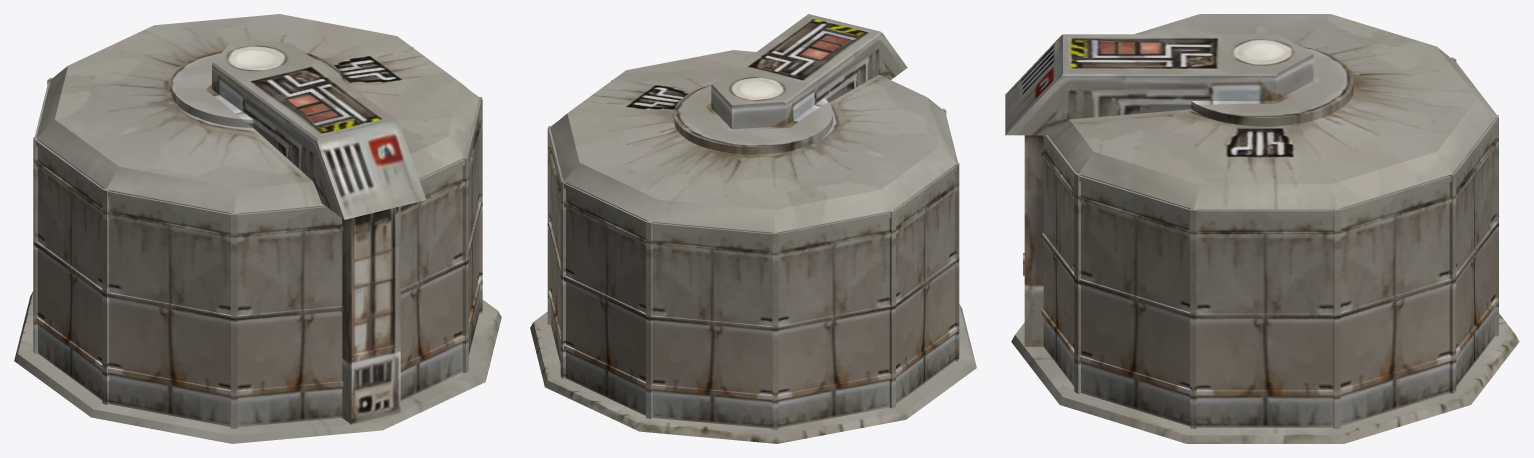
The model's file is liquidstorage_cad.glb.
3 renders of one model, left to right at view 1: azimuth 30°, elevation 25°; view 2: azimuth 150°, elevation 25°; view 3: azimuth 270°, elevation 25°, orthographic. The views are drawn at different scales.
Visible parts, largest first — view 1: LiquidStorage; view 2: LiquidStorage; view 3: LiquidStorage.
Boxes of the visible parts, x1,y1,x2,y2 form: LiquidStorage: (14, 14, 501, 443); LiquidStorage: (530, 14, 976, 443); LiquidStorage: (1005, 14, 1519, 443).
Bounding box in the file's own units: 19.13 × 12.57 × 20.34.
1 material, 1 textured.
